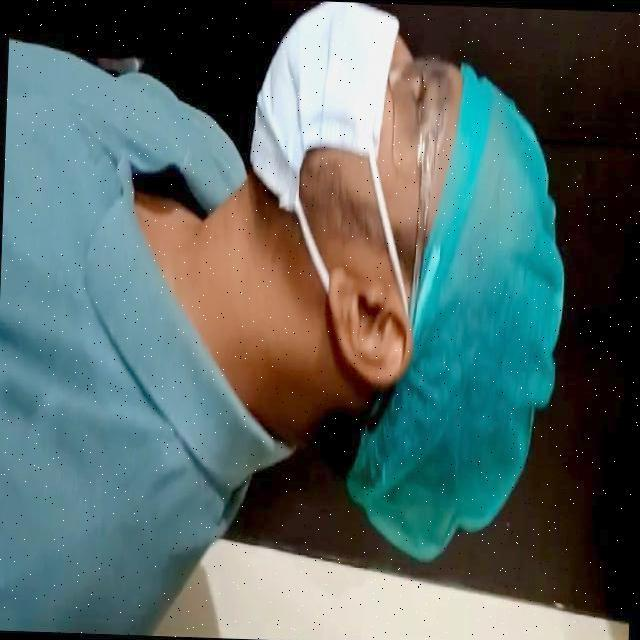gloves: (392, 71, 572, 557)
mask: (266, 9, 402, 209)
